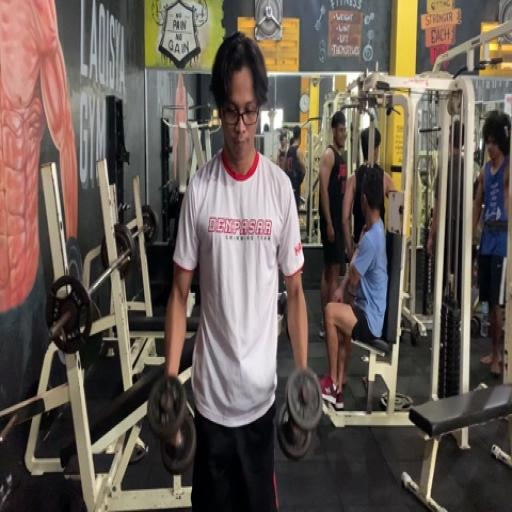exercise: (152, 30, 314, 510)
